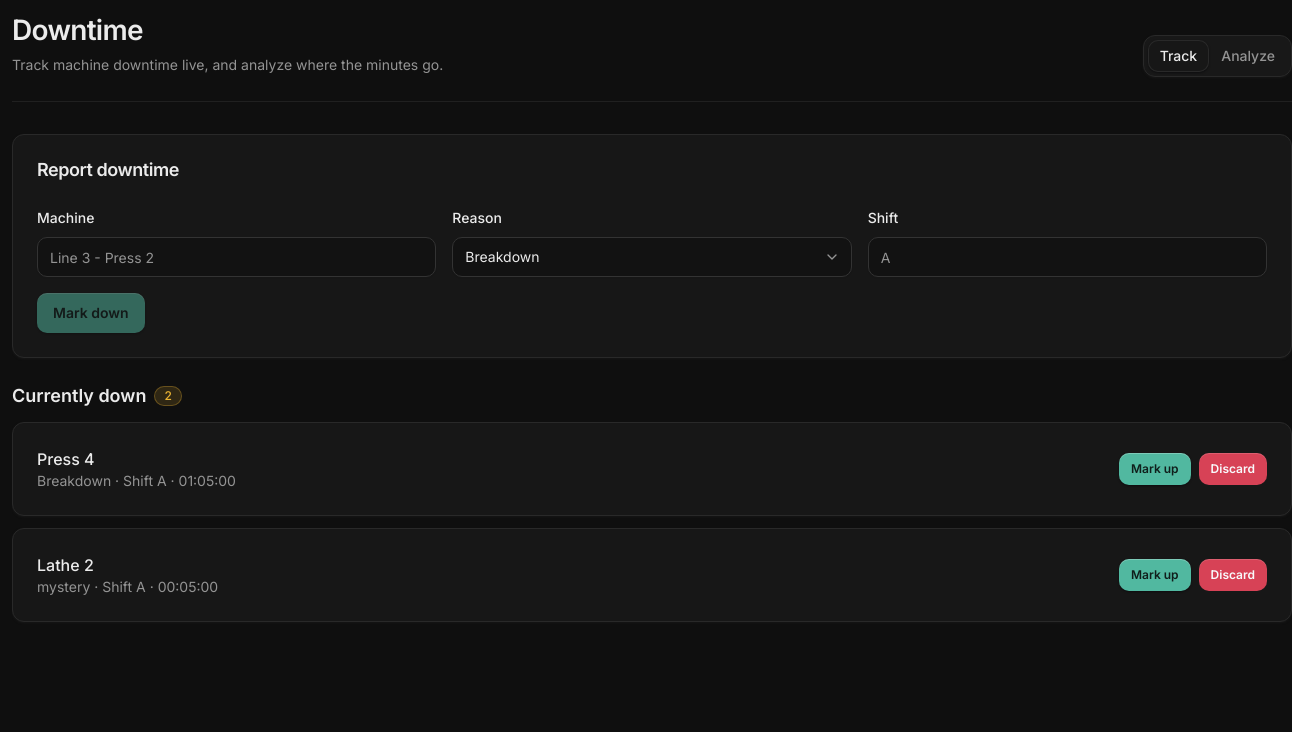
Test case: Downtime track (org with live tracking) › marks an incident up and discards another, hitting each incident's endpoint
Expected: the text "Breakdown · Shift A · 01:05:00" is shown, [37,471,236,491]
Expected: the text "mystery · Shift A · 00:05:00" is shown, [37,577,218,597]
Step 1. Click the button "Mark up" in the row of "01:05:00" → [1155, 469], box [1119,453,1191,485]
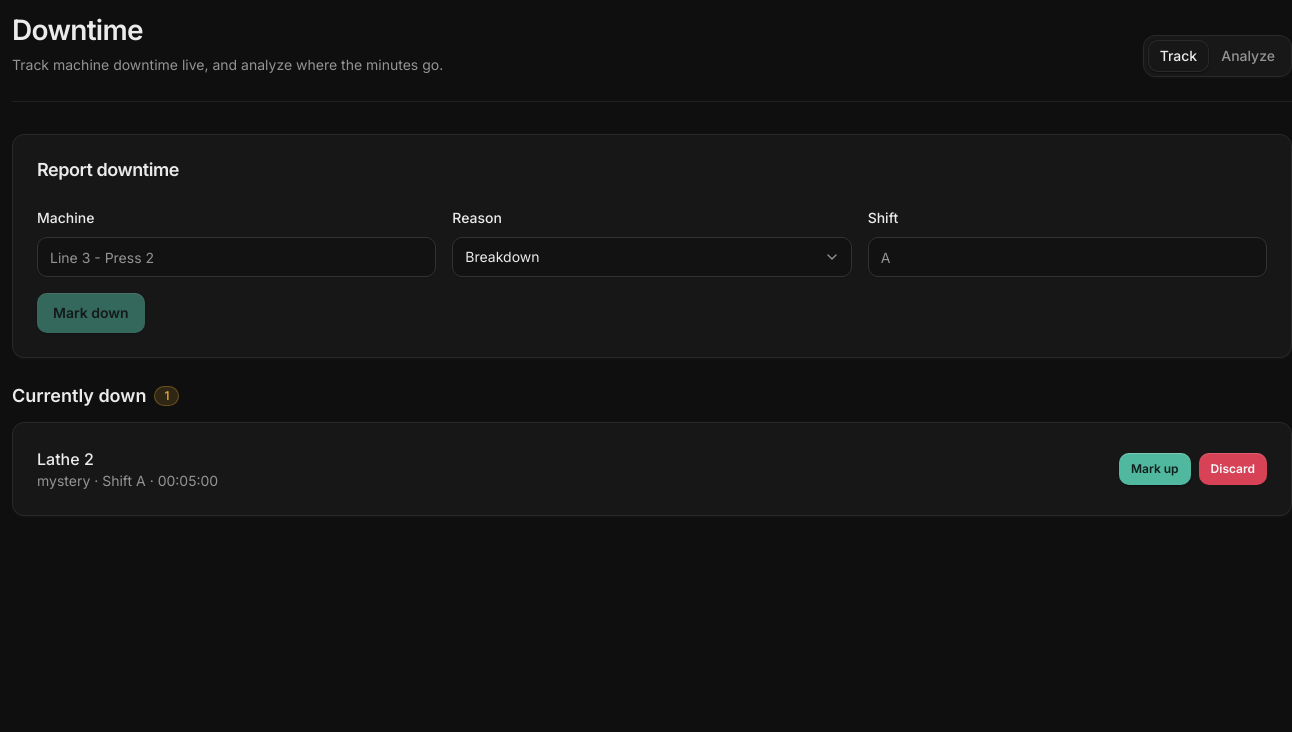
Expected: the text "Press 4" is gone
Step 2. Click the button "Discard" → [1233, 469], box [1199,453,1267,485]
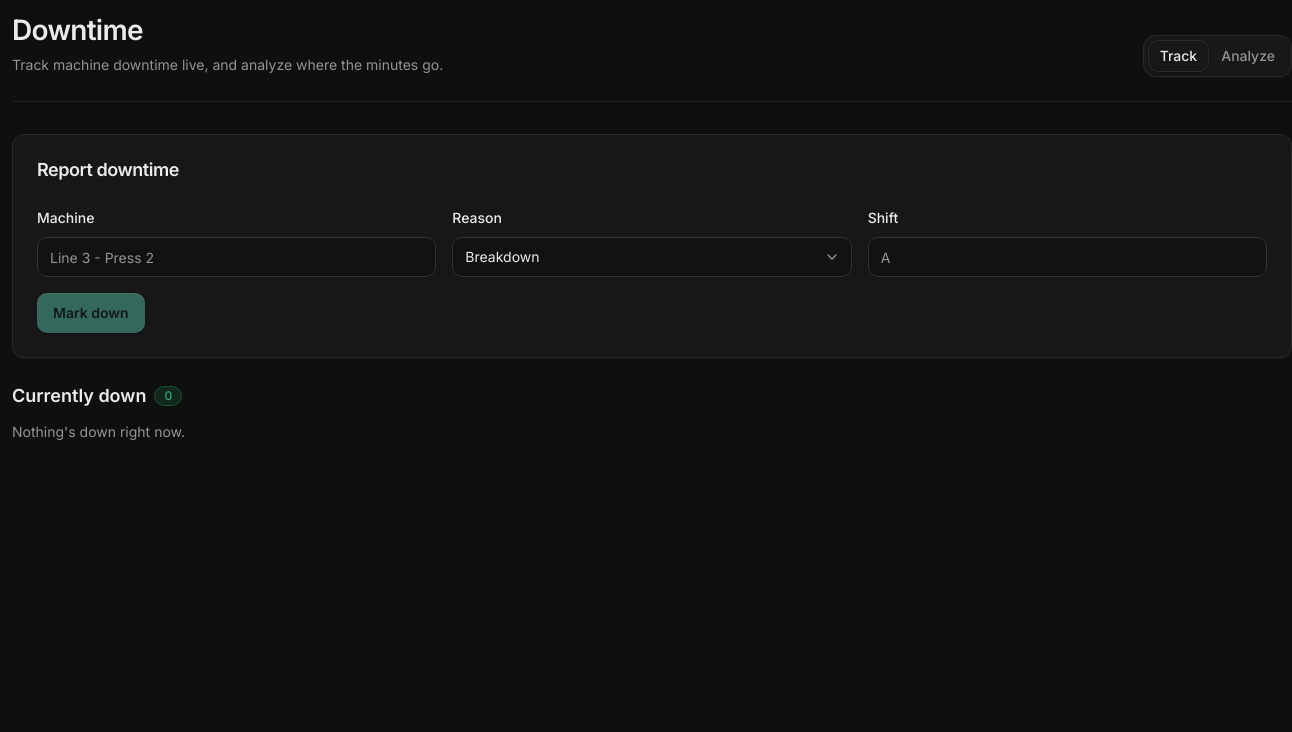
Expected: the text "Nothing's down right now." is shown, [12,423,185,440]
